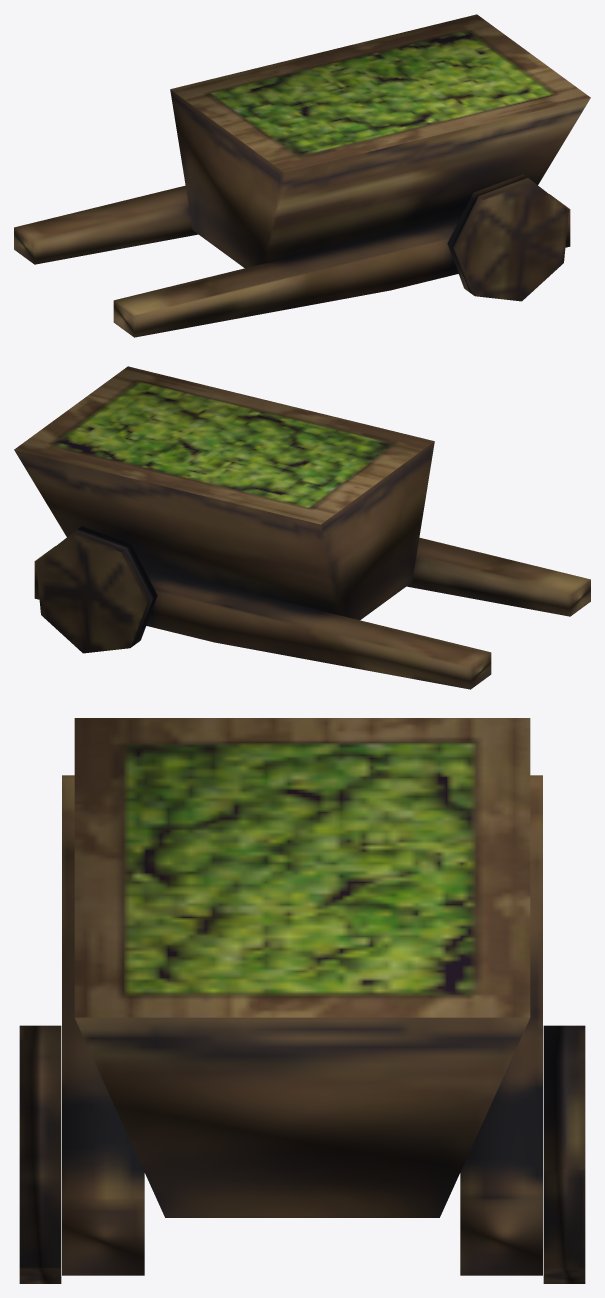
File: Wheelbarrow.fbx
3 views of the same model, one above another, from view 1: azimuth 30°, elevation 25°; view 2: azimuth 150°, elevation 25°; view 3: azimuth 270°, elevation 25° (orthographic). The views are drawn at different scales.
Parts seen in each view (by area): view 1: Wheelbarrow; view 2: Wheelbarrow; view 3: Wheelbarrow.
Boxes of the visible parts, x1,y1,x2,y2 form: Wheelbarrow: (14, 14, 590, 337); Wheelbarrow: (14, 366, 590, 689); Wheelbarrow: (19, 718, 585, 1283).
Size of the model in its own units: 459 by 166 by 245.
